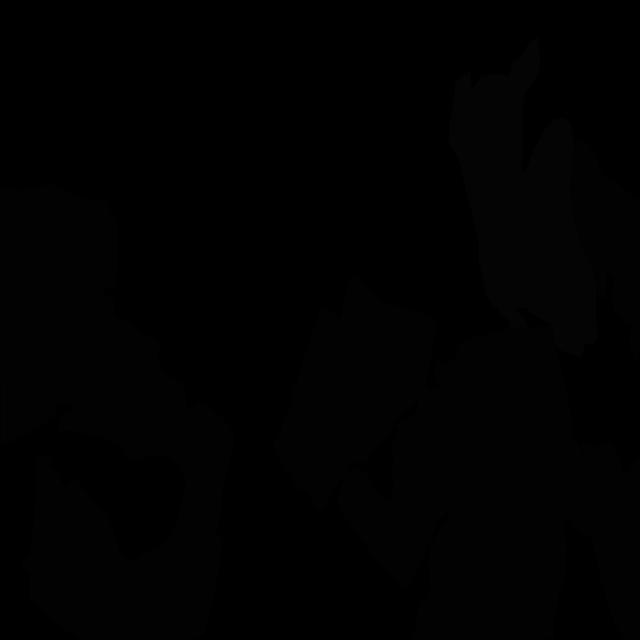cardboard: (22, 314, 234, 640), (407, 325, 583, 548), (273, 274, 438, 511), (0, 183, 117, 446), (406, 483, 575, 640), (337, 411, 432, 591), (559, 439, 640, 640), (570, 137, 640, 365)
soft_plastic: (448, 37, 598, 357)
